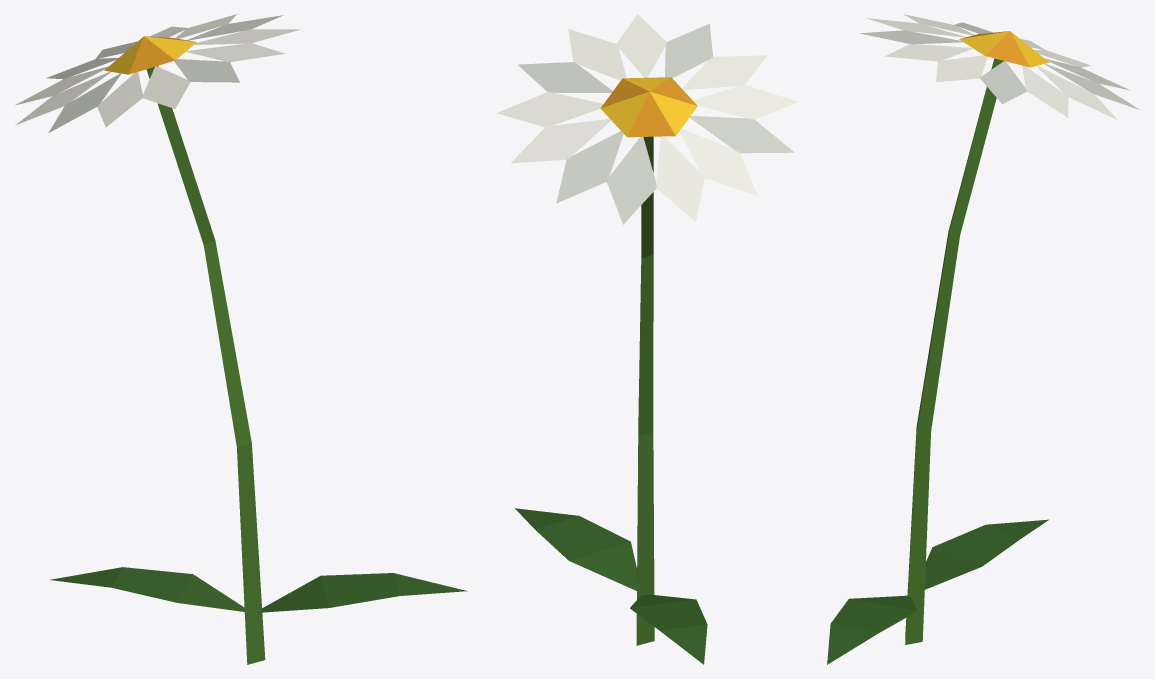
File: daisy_single.fbx
3 views of the same model, side by side, from view 1: azimuth 30°, elevation 25°; view 2: azimuth 150°, elevation 25°; view 3: azimuth 270°, elevation 25° (orthographic). The views are drawn at different scales.
Parts seen in each view (by area): view 1: daisy_single; view 2: daisy_single; view 3: daisy_single.
Boxes of the visible parts, x1,y1,x2,y2 form: daisy_single: [15, 14, 467, 664]; daisy_single: [496, 14, 797, 664]; daisy_single: [827, 14, 1139, 664].
Size of the model in its own units: 10.07 by 16.84 by 8.06.
1 material, 1 textured.
